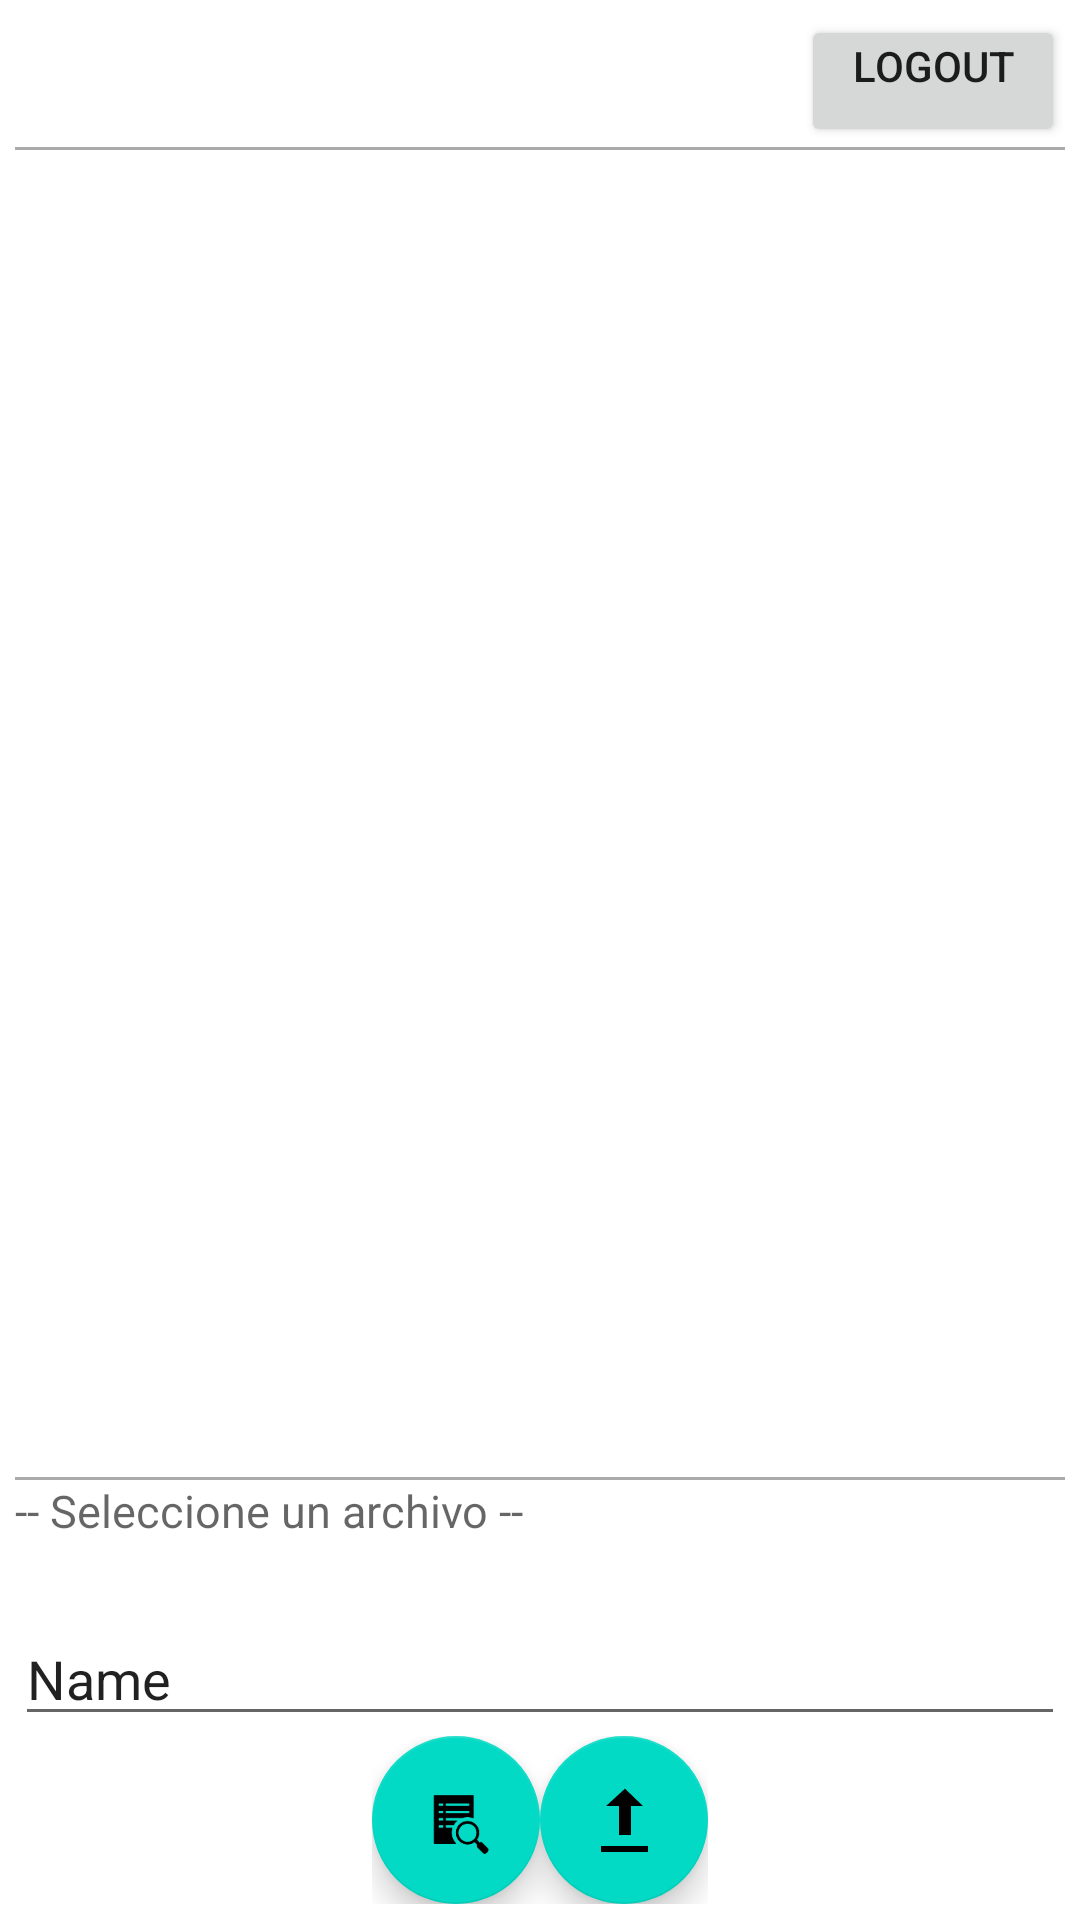

Icon click points for this 1080 × 1920 phone screenshot, format (x=x, y=y):
upload: (x=624, y=1820)
